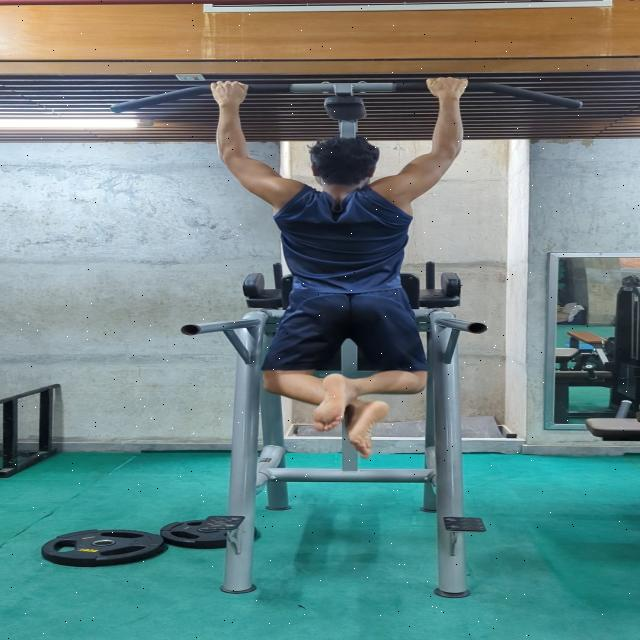Normal_PullUps: (192, 76, 486, 462)
